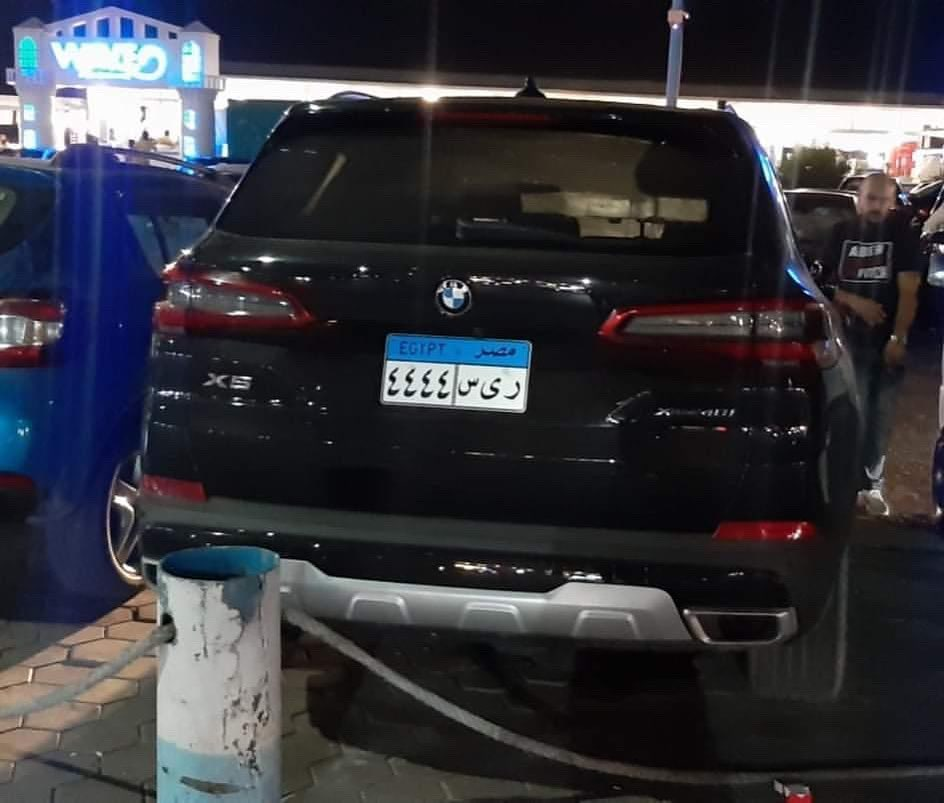carpl: (381, 363, 525, 407)
